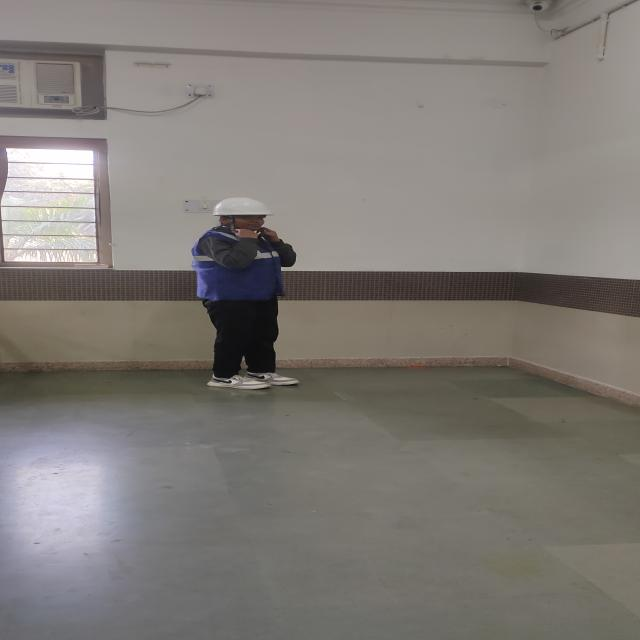safe: (192, 198, 298, 389)
